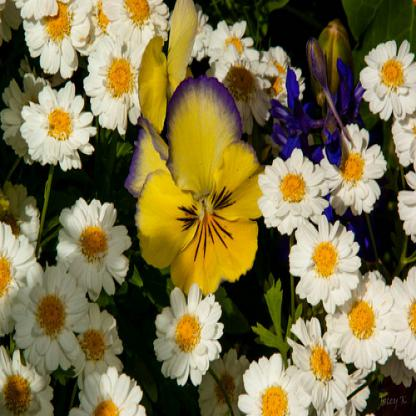ASTER: (5, 12, 406, 408)
